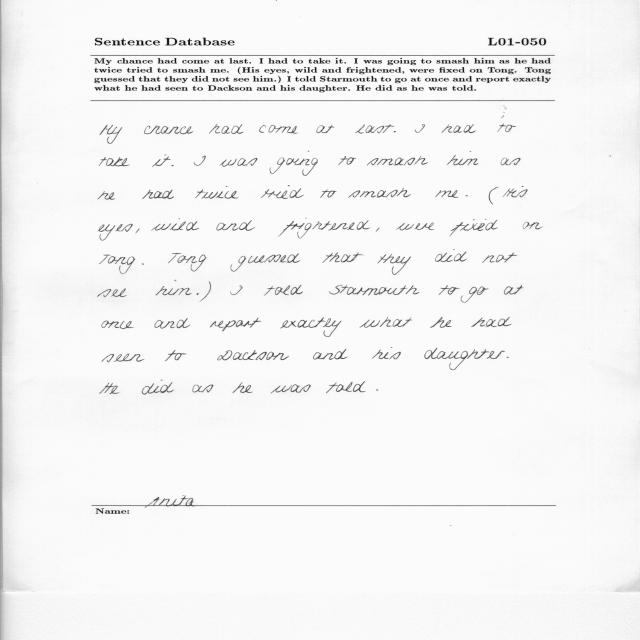word: (424, 348, 505, 370), (278, 221, 370, 239), (230, 254, 300, 272), (281, 317, 342, 337), (270, 151, 318, 176), (329, 285, 419, 295), (449, 219, 498, 237), (168, 253, 206, 272), (217, 350, 289, 360), (377, 254, 411, 275), (100, 255, 136, 274), (210, 318, 261, 331), (348, 188, 411, 198), (151, 218, 199, 231), (367, 156, 428, 166), (98, 224, 133, 241), (359, 317, 412, 328), (195, 186, 239, 199), (261, 186, 304, 199), (156, 280, 192, 295), (142, 380, 174, 395), (326, 381, 366, 393), (322, 252, 364, 263), (461, 286, 488, 303), (144, 125, 193, 134), (100, 124, 122, 144), (447, 151, 478, 165), (217, 220, 256, 231), (471, 317, 512, 327), (155, 318, 191, 329), (355, 124, 394, 134), (264, 285, 303, 295), (102, 354, 145, 363), (313, 349, 347, 360), (271, 385, 311, 394), (483, 253, 518, 263), (372, 348, 401, 360), (220, 158, 258, 167), (209, 124, 243, 134), (435, 252, 467, 262), (441, 124, 476, 133), (502, 186, 528, 198), (260, 125, 298, 133), (497, 116, 516, 132), (397, 223, 434, 231), (143, 190, 175, 199), (102, 320, 134, 329), (99, 158, 130, 167), (98, 289, 127, 298), (430, 317, 452, 328), (165, 350, 186, 361), (152, 155, 171, 167), (200, 282, 211, 302), (100, 383, 120, 394), (233, 382, 253, 393), (439, 285, 460, 295), (504, 285, 523, 295), (436, 190, 459, 198), (338, 156, 357, 165), (193, 385, 214, 393), (98, 191, 115, 200), (320, 189, 337, 198), (489, 187, 498, 204), (317, 125, 335, 133), (501, 158, 521, 165), (523, 222, 542, 229), (230, 285, 243, 295), (194, 156, 206, 166), (415, 124, 425, 133), (136, 228, 140, 233), (376, 228, 379, 232), (142, 263, 144, 265), (197, 293, 199, 295), (376, 390, 379, 391), (394, 131, 396, 132), (172, 165, 174, 166), (466, 195, 468, 196), (507, 357, 509, 358)
